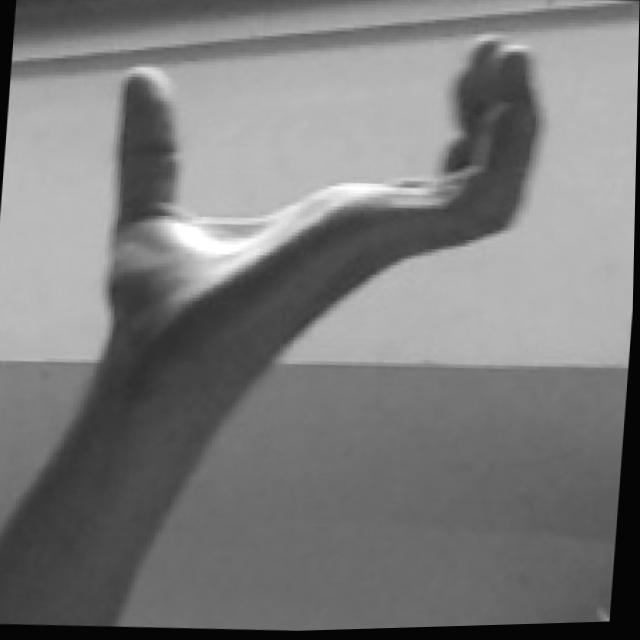space: (99, 11, 549, 373)
